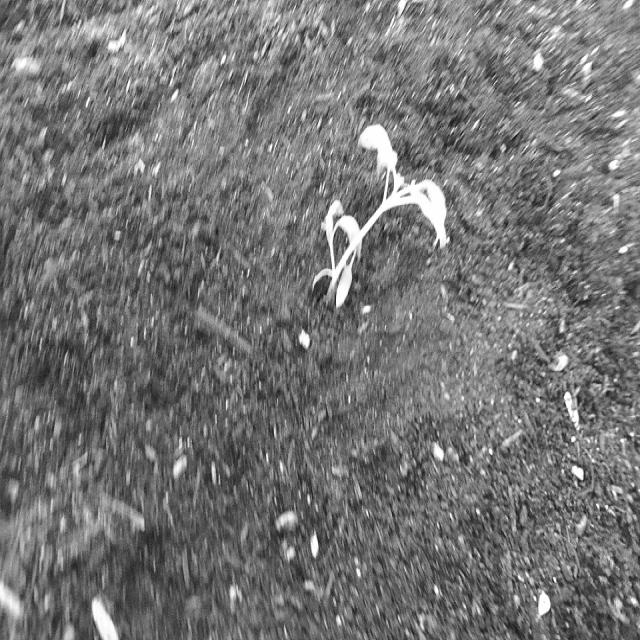Healthy: (299, 80, 466, 337)
